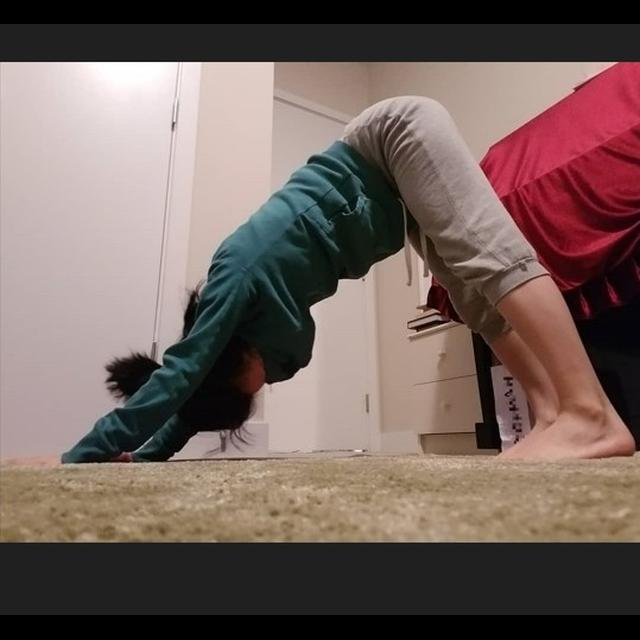Downward-Facing_Dog: (1, 88, 638, 467)
